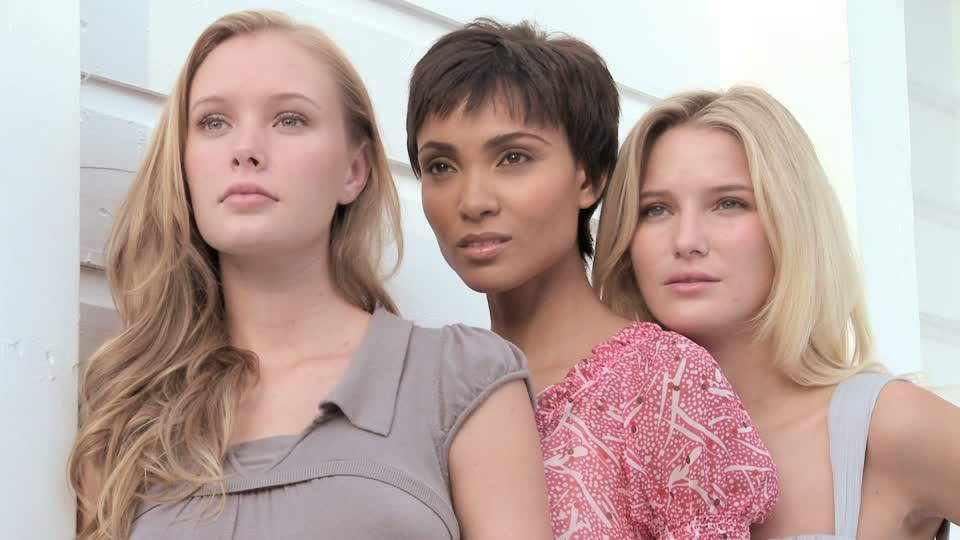person: (603, 38, 958, 537), (106, 20, 449, 502), (366, 13, 696, 506)
